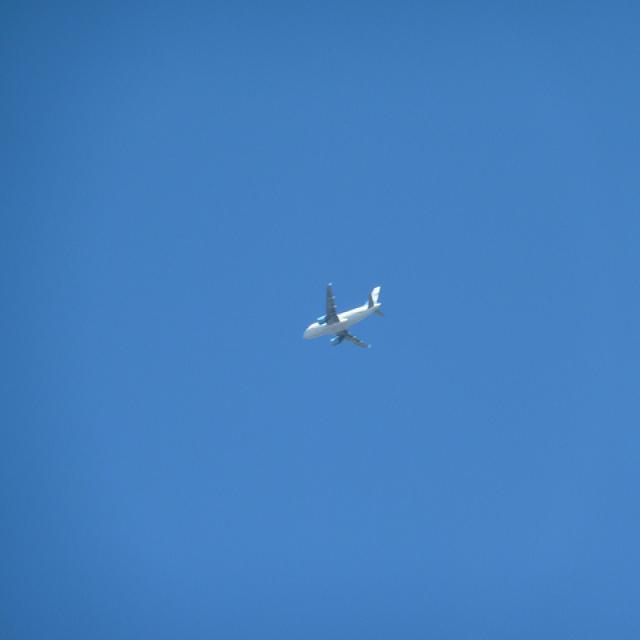airplane: (301, 279, 389, 352)
